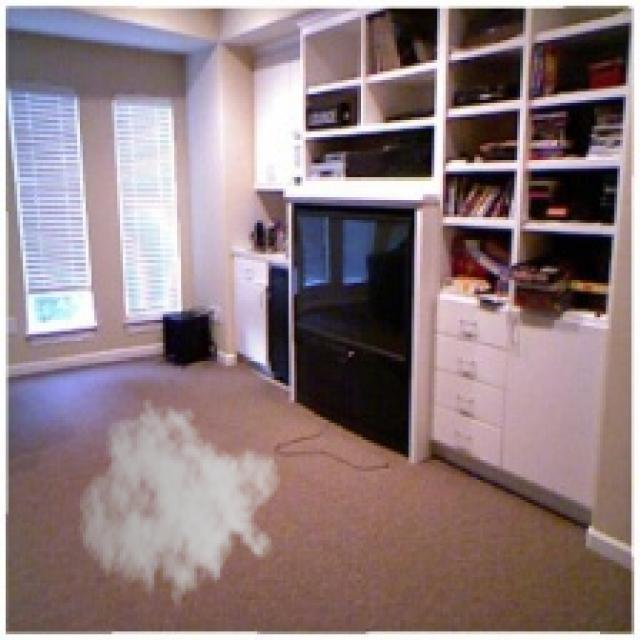Smoke: (77, 397, 283, 620)
